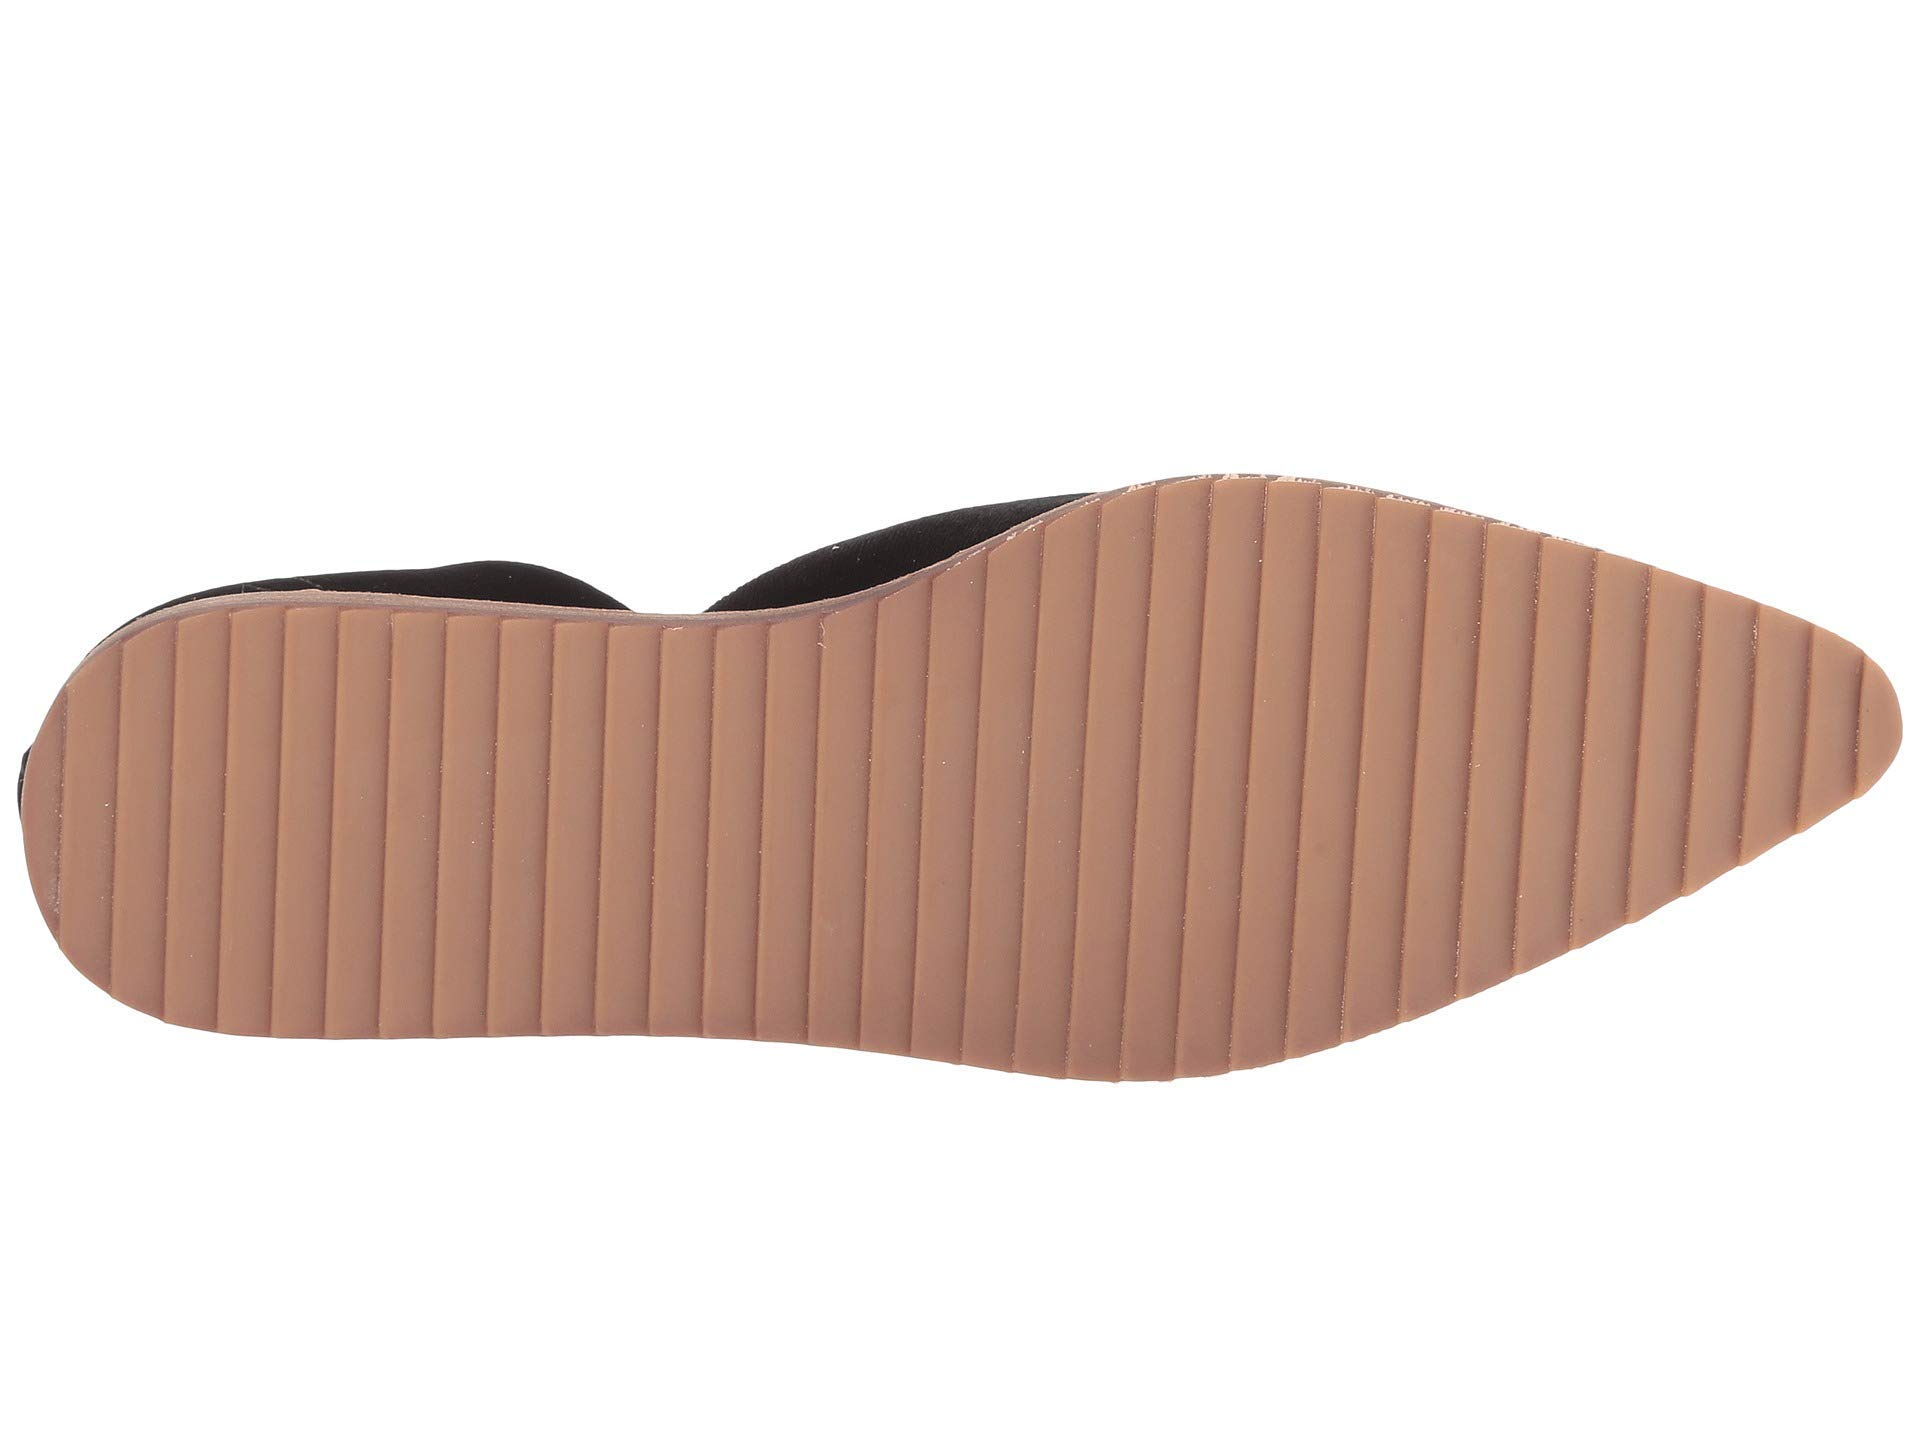line: (194, 522, 1463, 1071)
